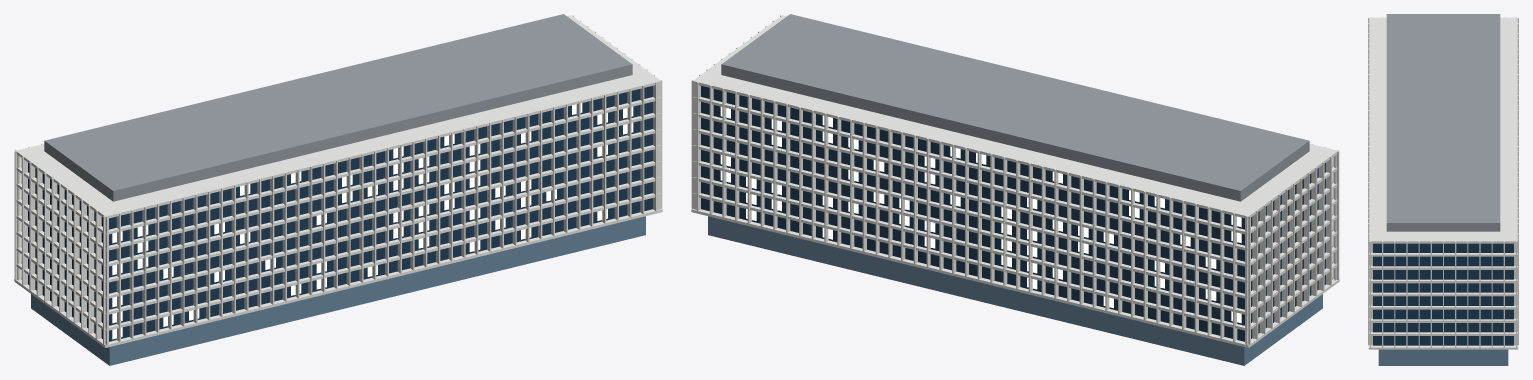
Rendered from yas-hotel-a.glb.
3 views of the same model, side by side, from view 1: azimuth 30°, elevation 25°; view 2: azimuth 150°, elevation 25°; view 3: azimuth 270°, elevation 25° (orthographic). The views are drawn at different scales.
Visible parts, largest first — view 1: yas-hotel-a; view 2: yas-hotel-a; view 3: yas-hotel-a.
Part boxes in pixels (<box>): yas-hotel-a: <box>14,14,662,365</box>; yas-hotel-a: <box>691,14,1339,365</box>; yas-hotel-a: <box>1368,14,1518,365</box>.
Size of the model in its own units: 131 by 38 by 37.2.
